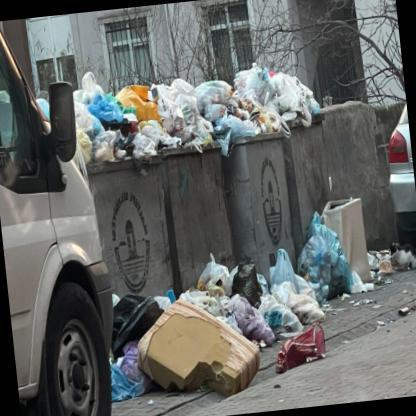Garbage: (72, 51, 316, 167), (242, 250, 316, 345), (90, 68, 161, 140), (301, 213, 355, 296), (312, 264, 366, 323), (229, 63, 277, 116), (278, 325, 332, 370), (266, 64, 308, 118), (191, 249, 235, 300), (128, 116, 178, 156), (235, 247, 266, 306), (85, 82, 123, 128), (264, 247, 297, 294), (88, 118, 122, 162), (116, 340, 142, 396), (364, 247, 402, 285), (237, 305, 272, 346), (200, 70, 234, 112), (154, 95, 184, 136), (289, 286, 318, 320), (258, 294, 290, 322), (174, 93, 202, 113), (172, 72, 194, 92)
